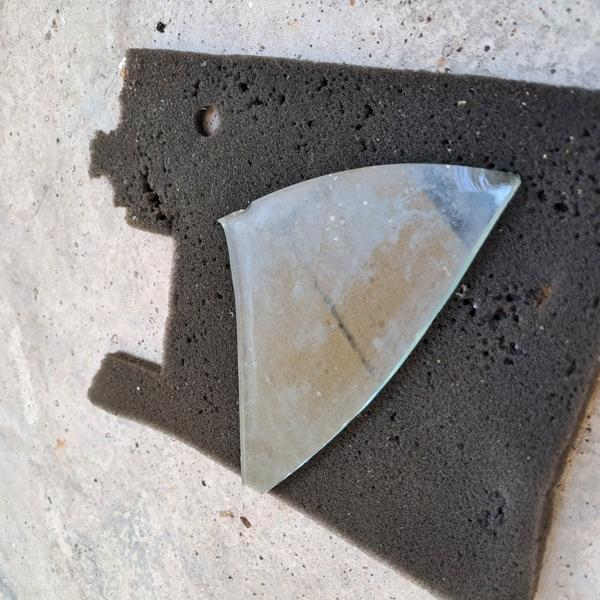Anorganik: (210, 147, 528, 485)
